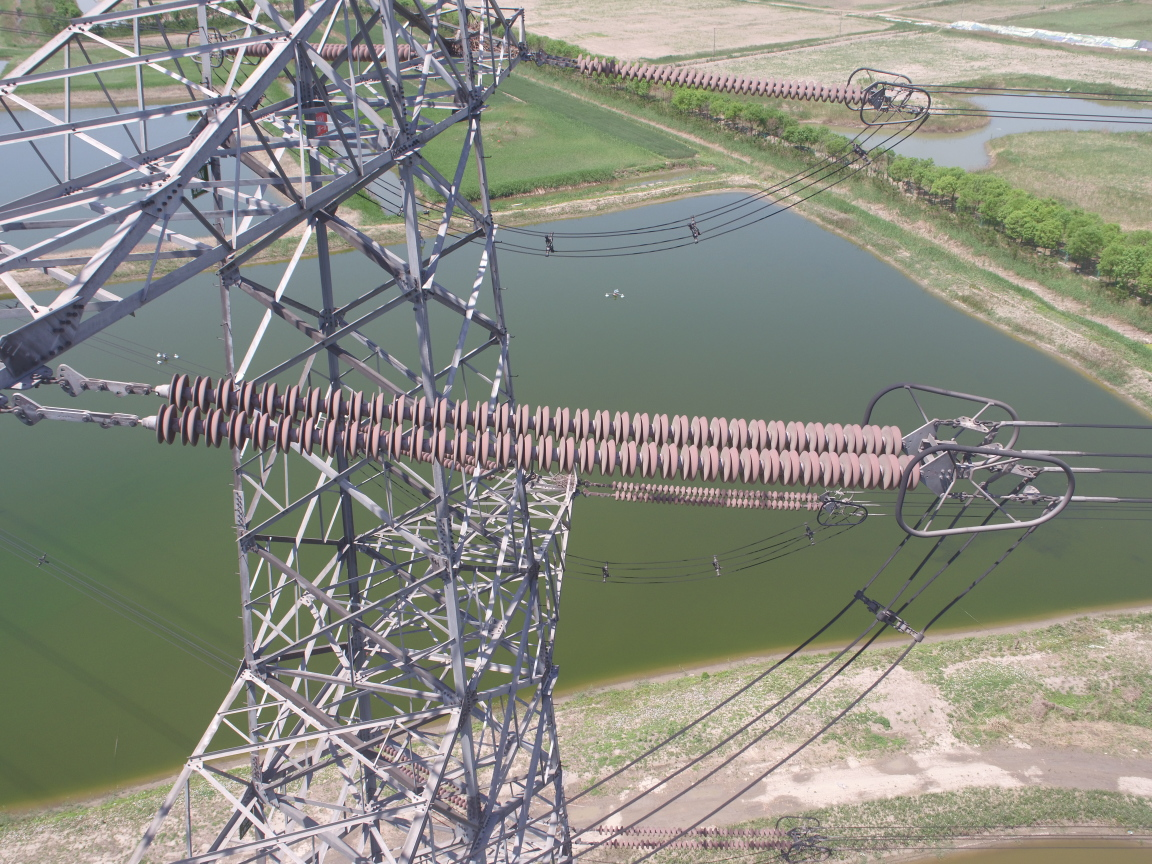insulator: (97, 368, 937, 495), (550, 48, 877, 109), (596, 479, 829, 513)
